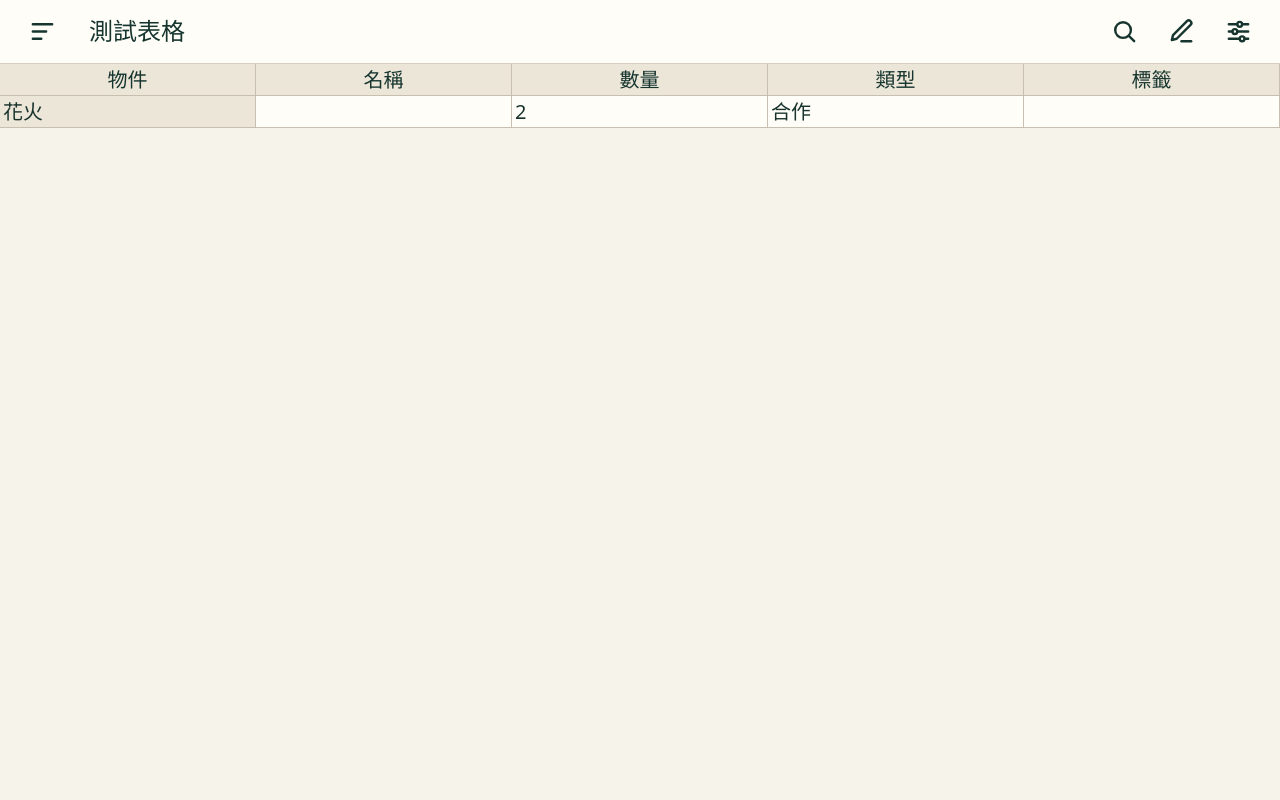
Scenario: WorkspacePage.columns › opens header editors when the header cell itself is clicked
Click the column heading with class "workspace-row-heading" at (128, 112), box [0,96,256,128]
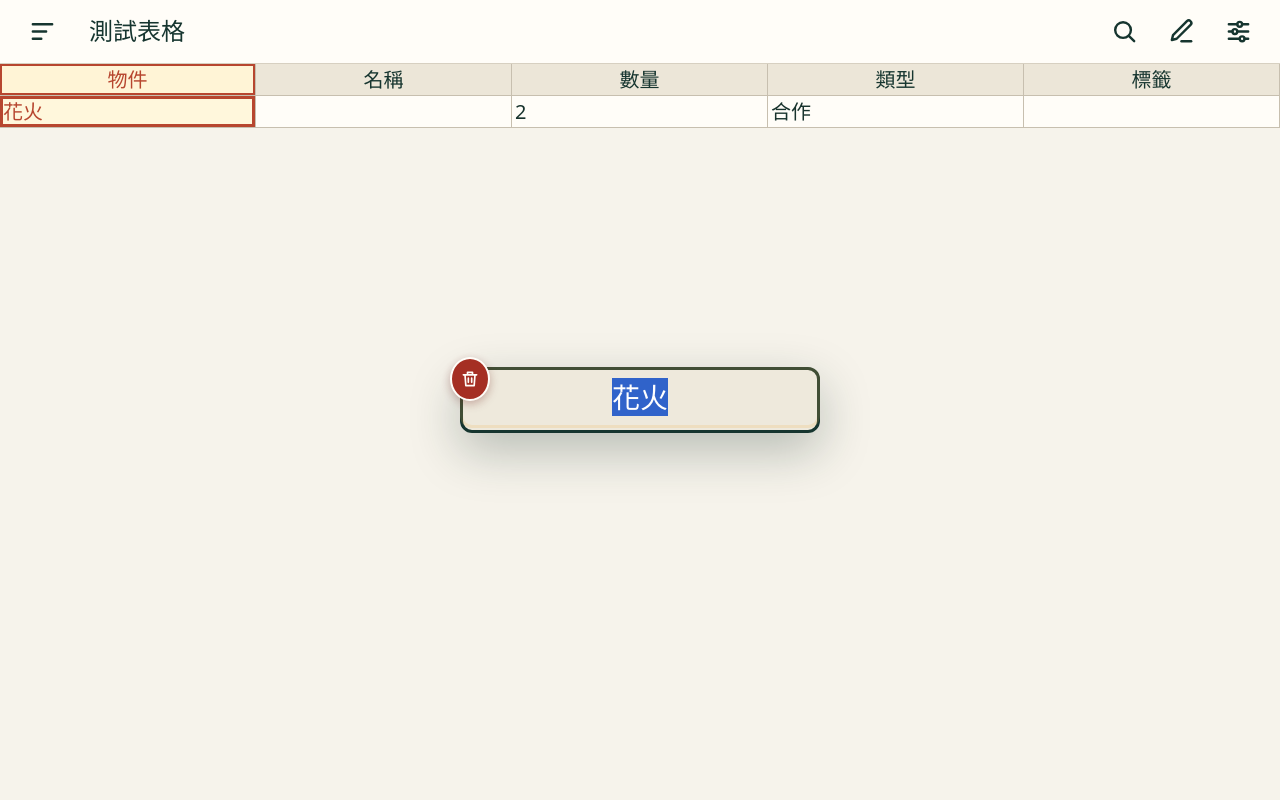
Expected: the dialog is shown
Click the element with class "workspace-value-dialog-overlay" at (640, 400), box [460,367,820,433]
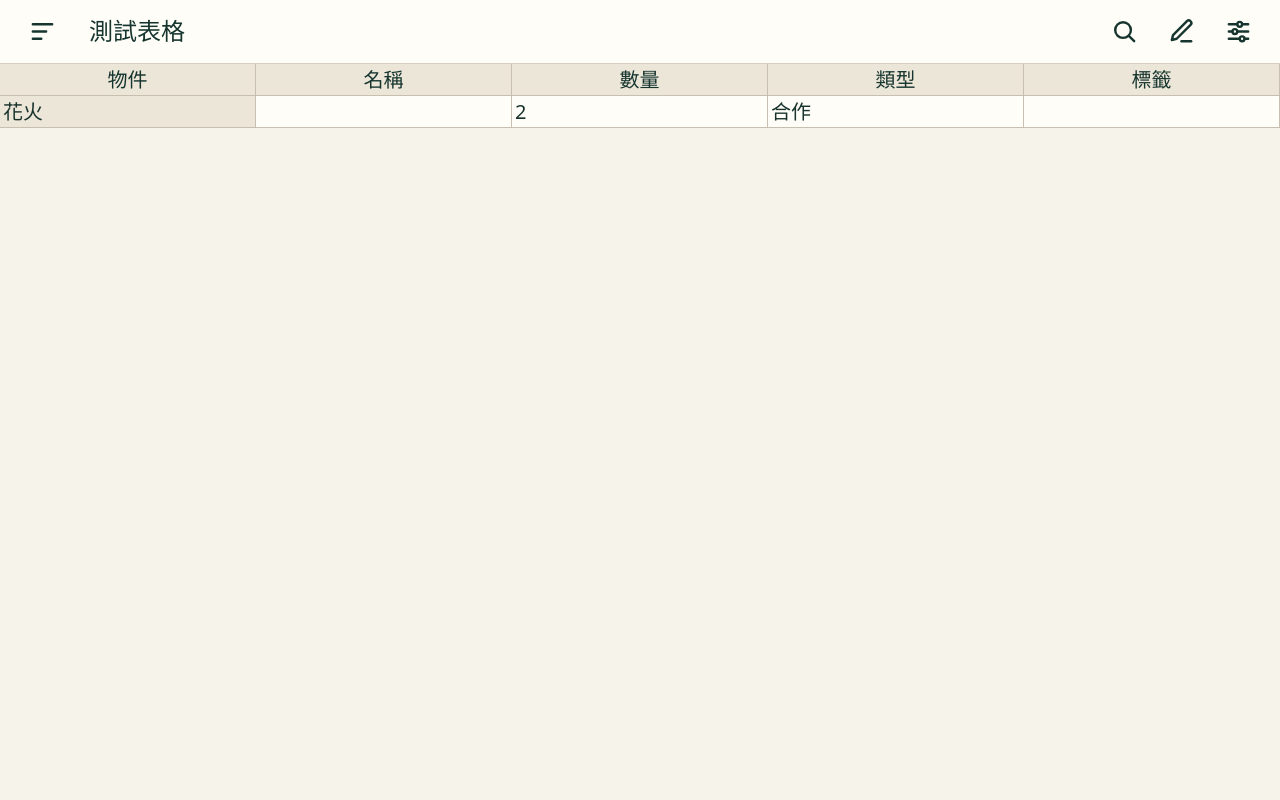
Click the column heading "名稱" at (384, 80), box [256,64,512,96]
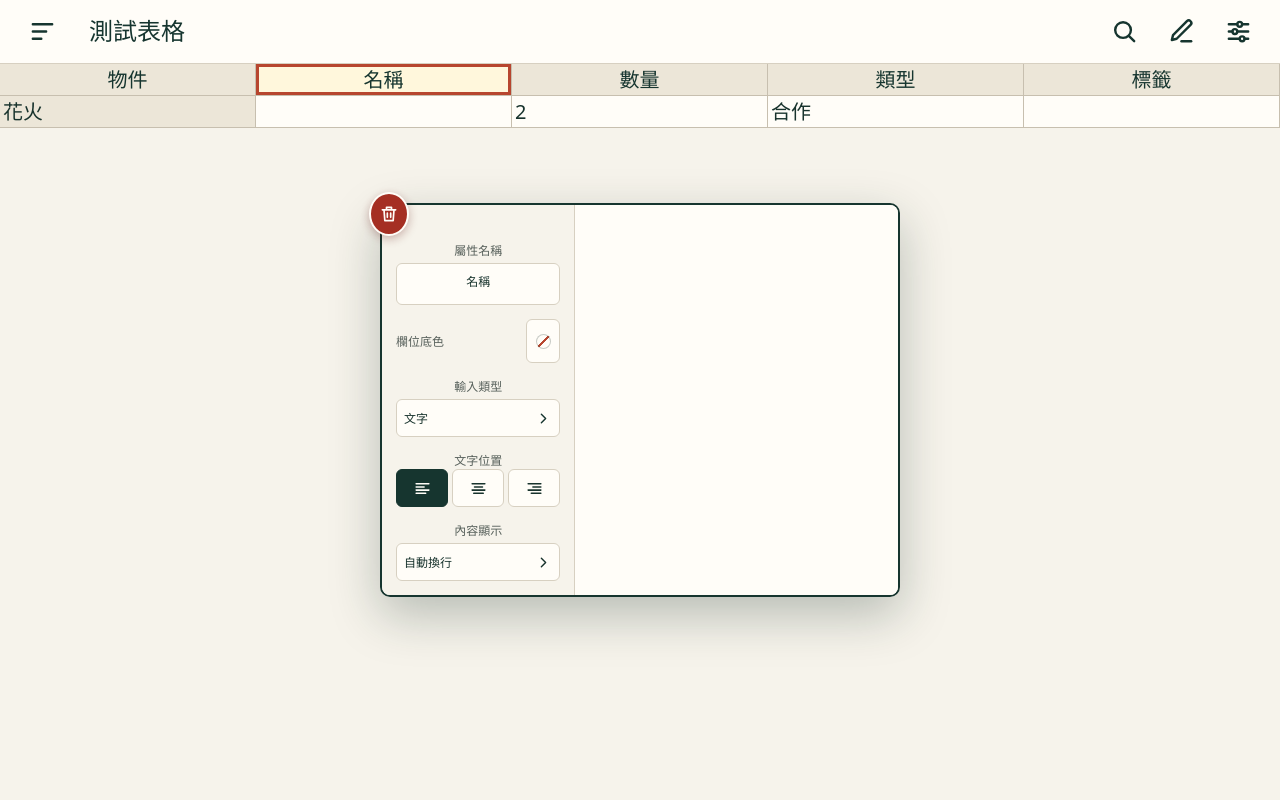
Expected: the dialog is shown, [380,203,900,597]
